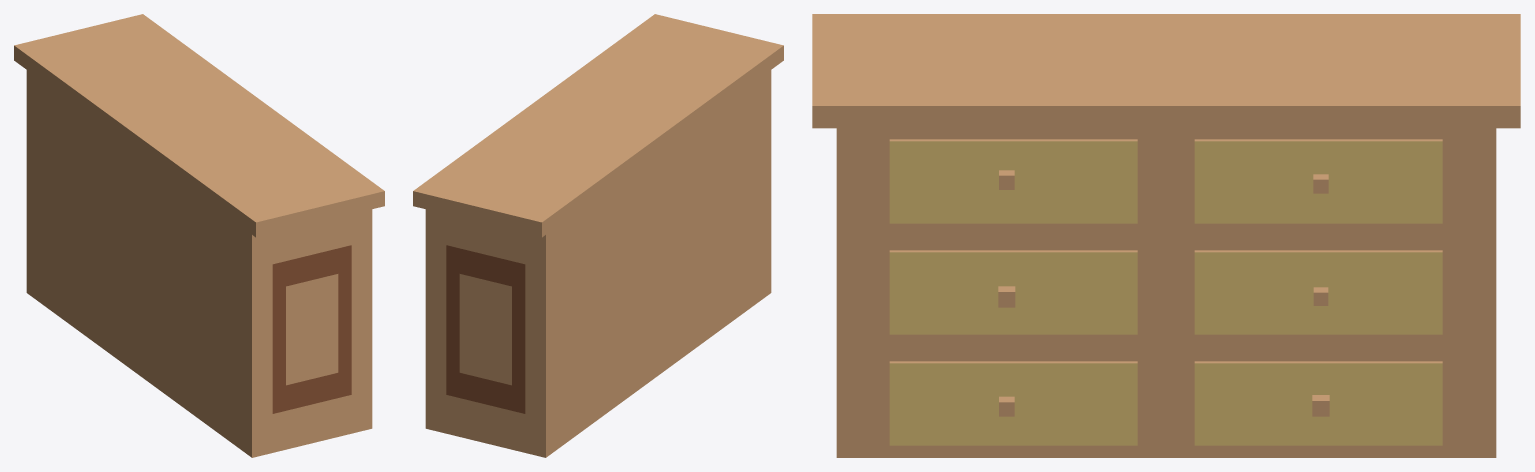
Rendered from dresser.fbx.
3 views of the same model, side by side, from view 1: azimuth 30°, elevation 25°; view 2: azimuth 150°, elevation 25°; view 3: azimuth 270°, elevation 25° (orthographic). The views are drawn at different scales.
Parts seen in each view (by area): view 1: Cube.114; view 2: Cube.114; view 3: Cube.114.
Part boxes in pixels (x1=…): Cube.114: x1=14, y1=14, x2=384, y2=457; Cube.114: x1=413, y1=14, x2=783, y2=457; Cube.114: x1=812, y1=14, x2=1520, y2=457.
Bounding box in the file's own units: 59.98 × 103 × 186.
